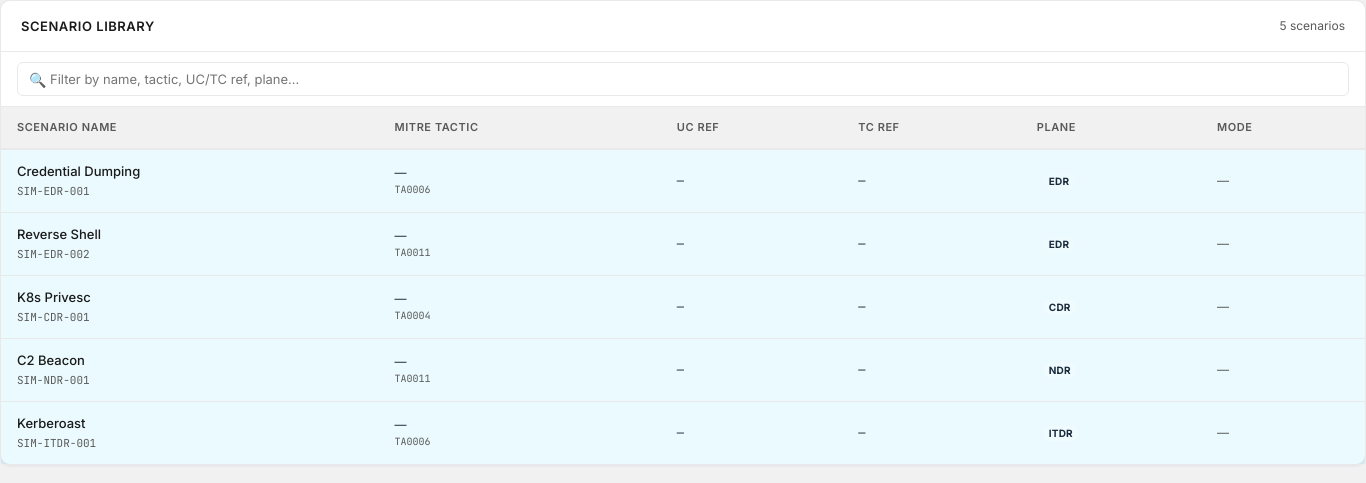
Test: <ScenarioBrowser /> › filters client-side by free-text query across name, id, plane, MITRE tactic
Expected: the text "Credential Dumping" is shown, [17,162,140,178]
Type "kerber" into the field named "Filter scenarios" at [683, 79], box [17,62,1349,96]
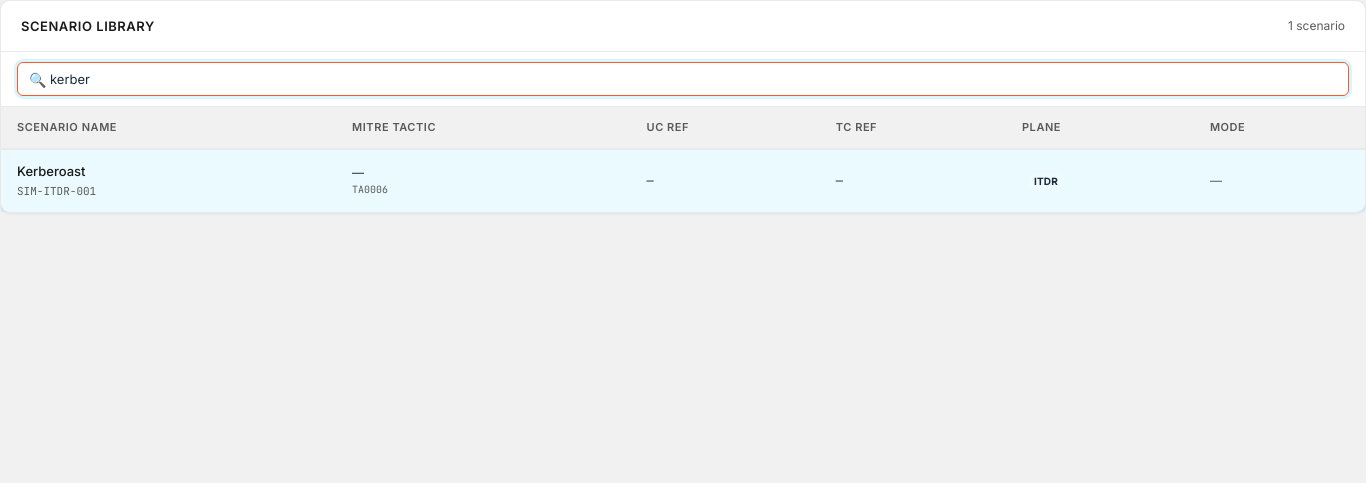
Expected: the text "Kerberoast" is shown, [17,162,86,178]
Result: the text "Credential Dumping" is gone
